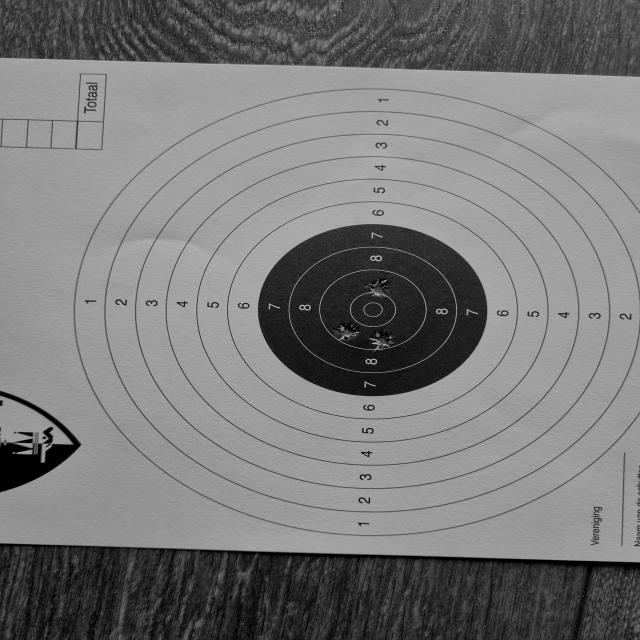10: (367, 277, 391, 297)
9: (331, 321, 359, 343), (369, 331, 395, 350)
Target: (74, 86, 640, 538)
black_contour: (259, 225, 487, 396)
